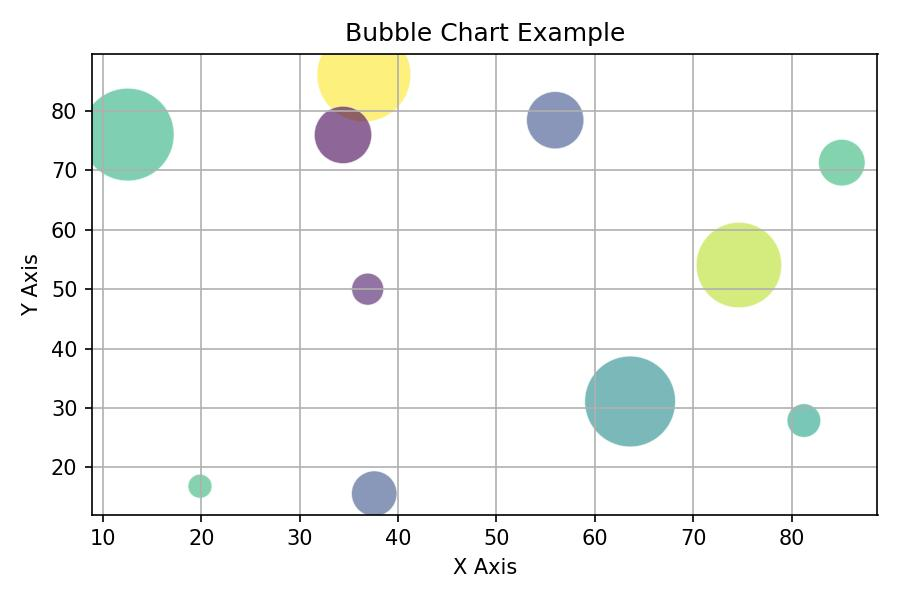axis: (69, 505, 880, 549), (50, 48, 99, 541)
circle: (584, 356, 677, 446), (698, 220, 785, 310), (93, 89, 174, 183), (318, 51, 411, 118), (527, 88, 586, 152), (312, 107, 370, 164), (818, 138, 865, 188), (353, 468, 398, 515), (785, 402, 822, 438), (348, 272, 385, 304), (189, 472, 216, 497)
